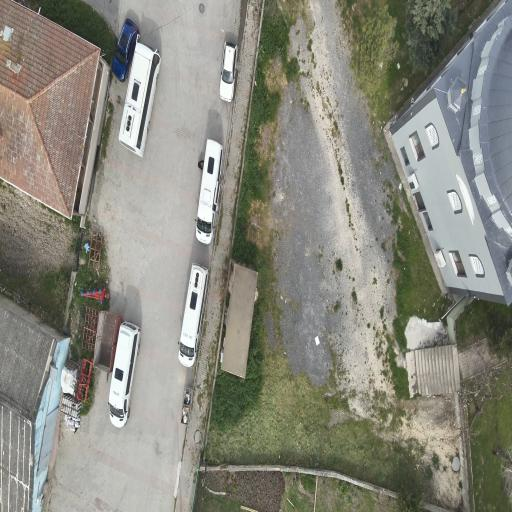car: (118, 40, 161, 157), (109, 322, 140, 428), (179, 264, 208, 367), (196, 140, 223, 245), (112, 18, 139, 81), (220, 41, 237, 100), (0, 179, 3, 184)
person: (198, 160, 204, 171)
